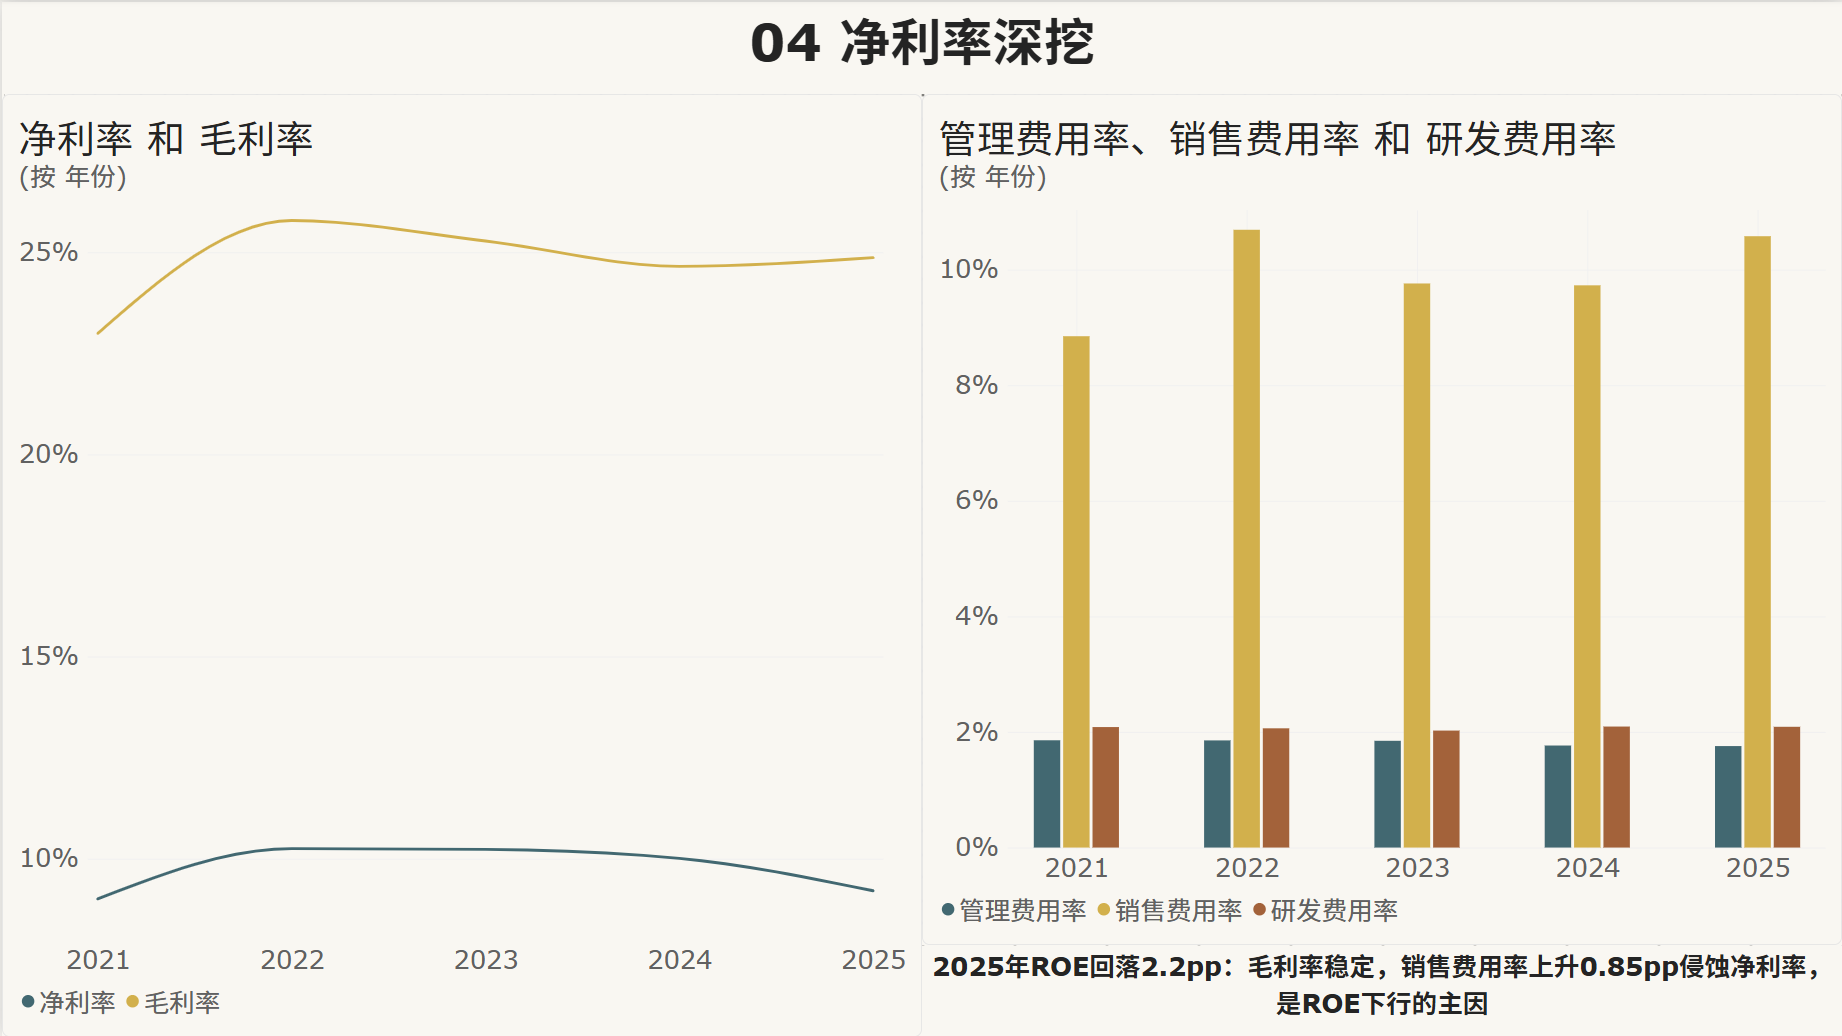

Layout of this report page (visuals, bound fields, positions):
{"tool":"powerbi","page":{"name":"03 净利率深挖","canvas":[1920,1080],"ordinal":3},"visuals":[{"type":"lineChart","fields":{"Category":["dim年份.年份"],"Y":["_度量值.净利率","_度量值.毛利率"]},"box":[0,96,960,984],"z":0},{"type":"clusteredColumnChart","fields":{"Y":["_度量值.管理费用率","_度量值.销售费用率","_度量值.研发费用率"],"Category":["dim年份.年份"]},"box":[960,96,960,888],"z":1000},{"type":"textbox","box":[960,984,960,96],"z":2000},{"type":"textbox","box":[0,0,1920,96],"z":3000}]}

Visuals, with their boxes in screenshot pixels (x1, y1, x2, y2), scaled from the page's 1920x1080 canvas onto the 1842x1036 screenshot:
lineChart - dim年份.年份 x _度量值.净利率: detection(0, 92, 921, 1035)
clusteredColumnChart - _度量值.管理费用率 x _度量值.销售费用率: detection(921, 92, 1841, 944)
textbox: detection(921, 944, 1841, 1035)
textbox: detection(0, 0, 1841, 92)
